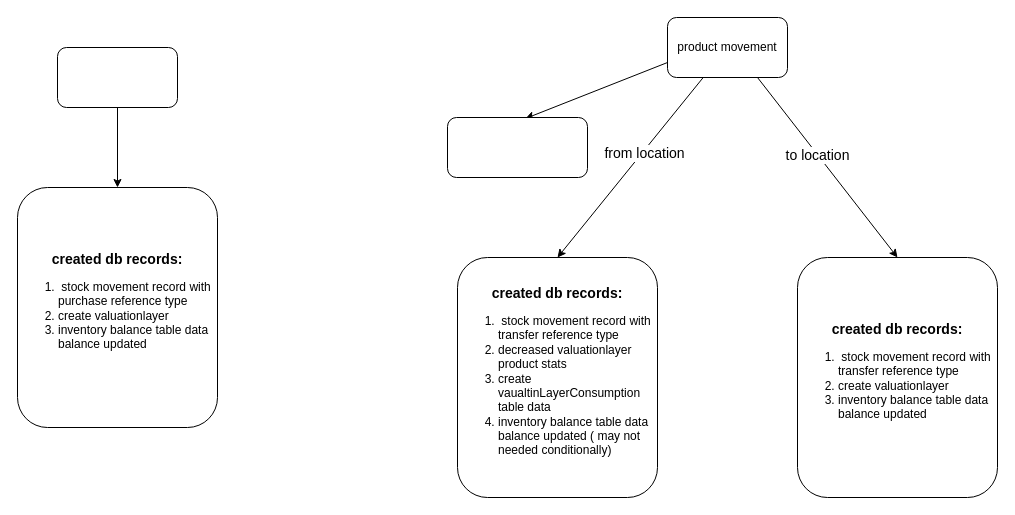
The diagram is 1015 pixels wide and 515 high, and some of its shapes have lost their labels. Here are the shapes that lost their labels. From the top down, the box of each, then its label:
(56, 46, 178, 108): product purchase
(446, 116, 588, 178): transfer table data
